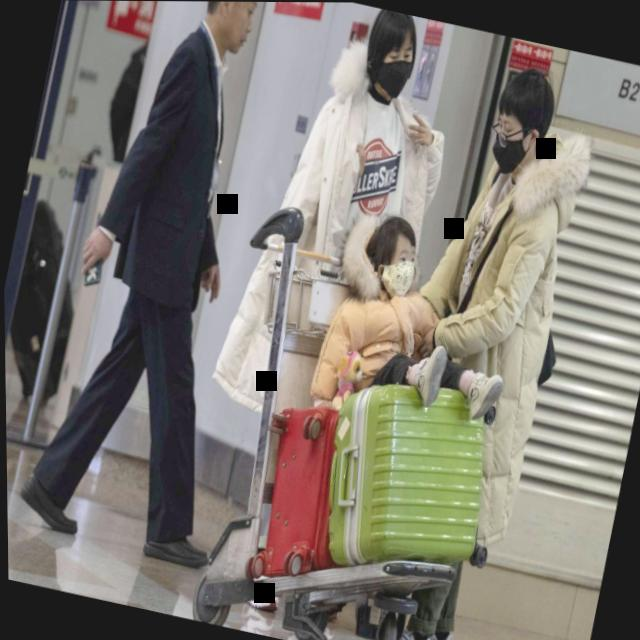Mask: (476, 57, 565, 185), (350, 5, 430, 109), (353, 200, 429, 303)
NO-Mask: (192, 1, 266, 64)
